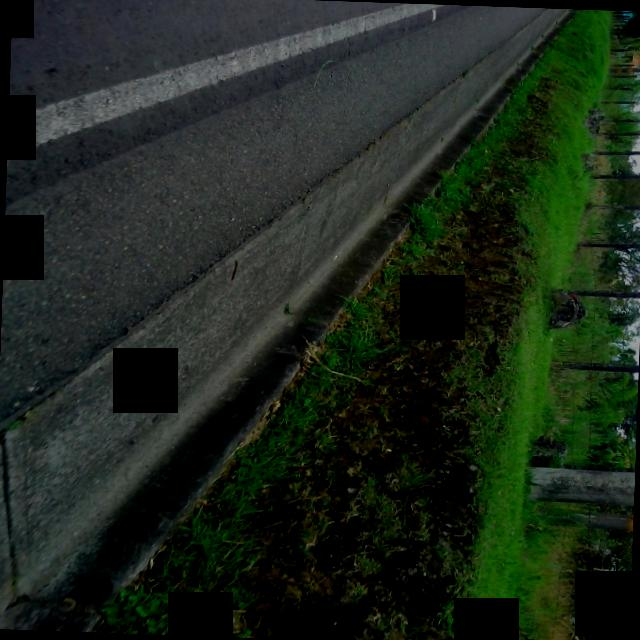DITCH: (0, 0, 577, 640), (0, 0, 560, 640), (0, 0, 559, 640)
